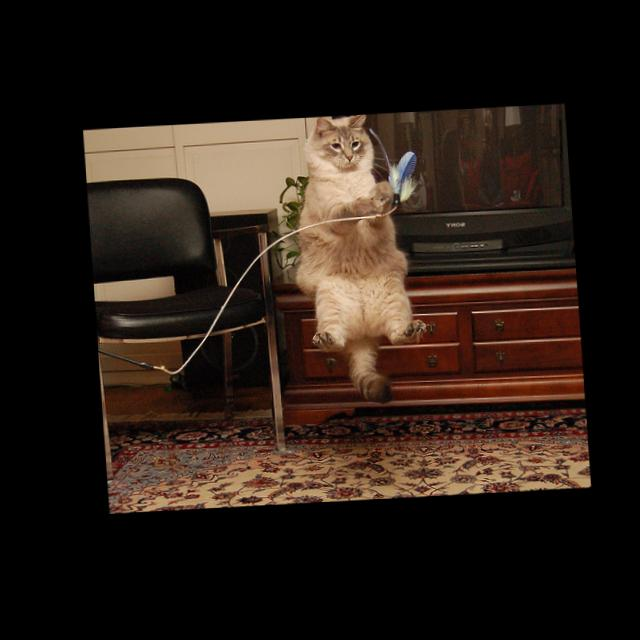animals: (317, 117, 367, 163)
